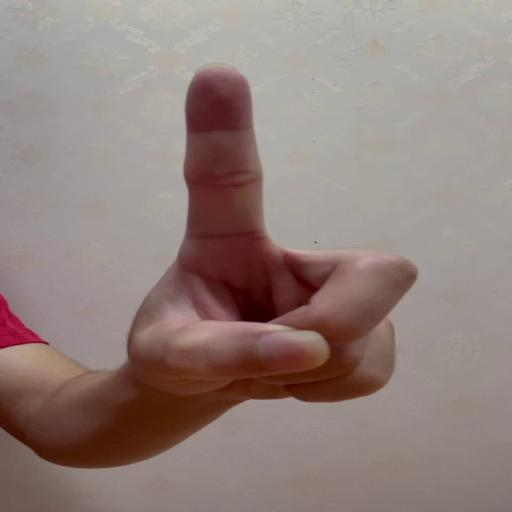point: (158, 62, 421, 405)
